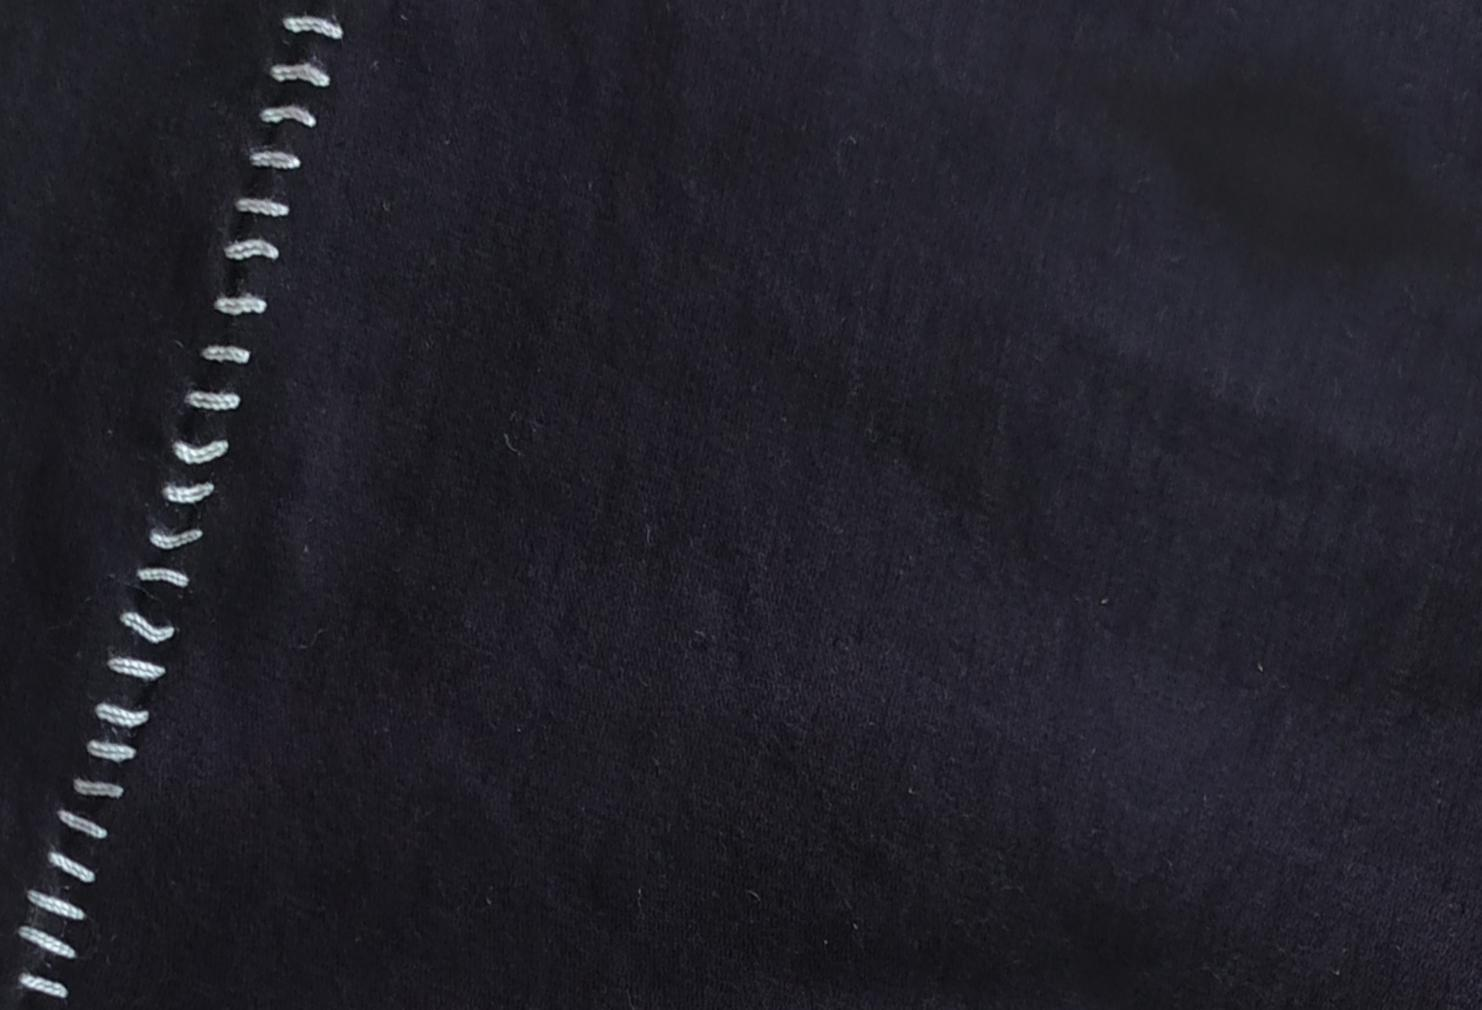slub: (16, 3, 349, 1008)
